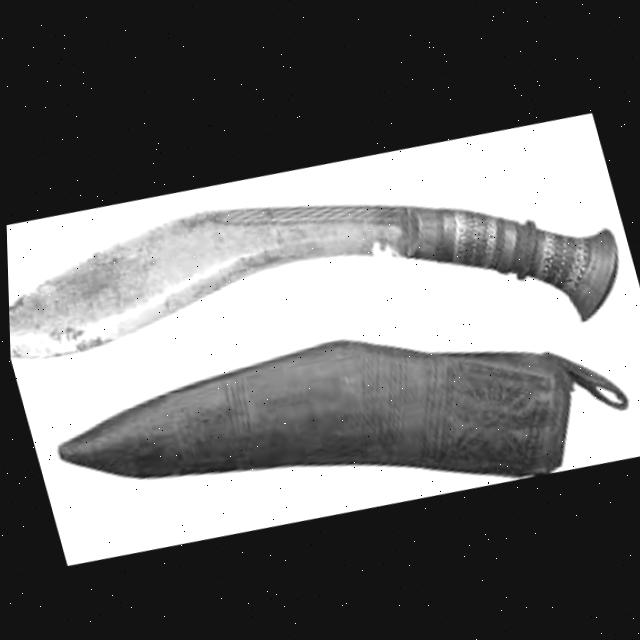Knife: (2, 100, 637, 453)
